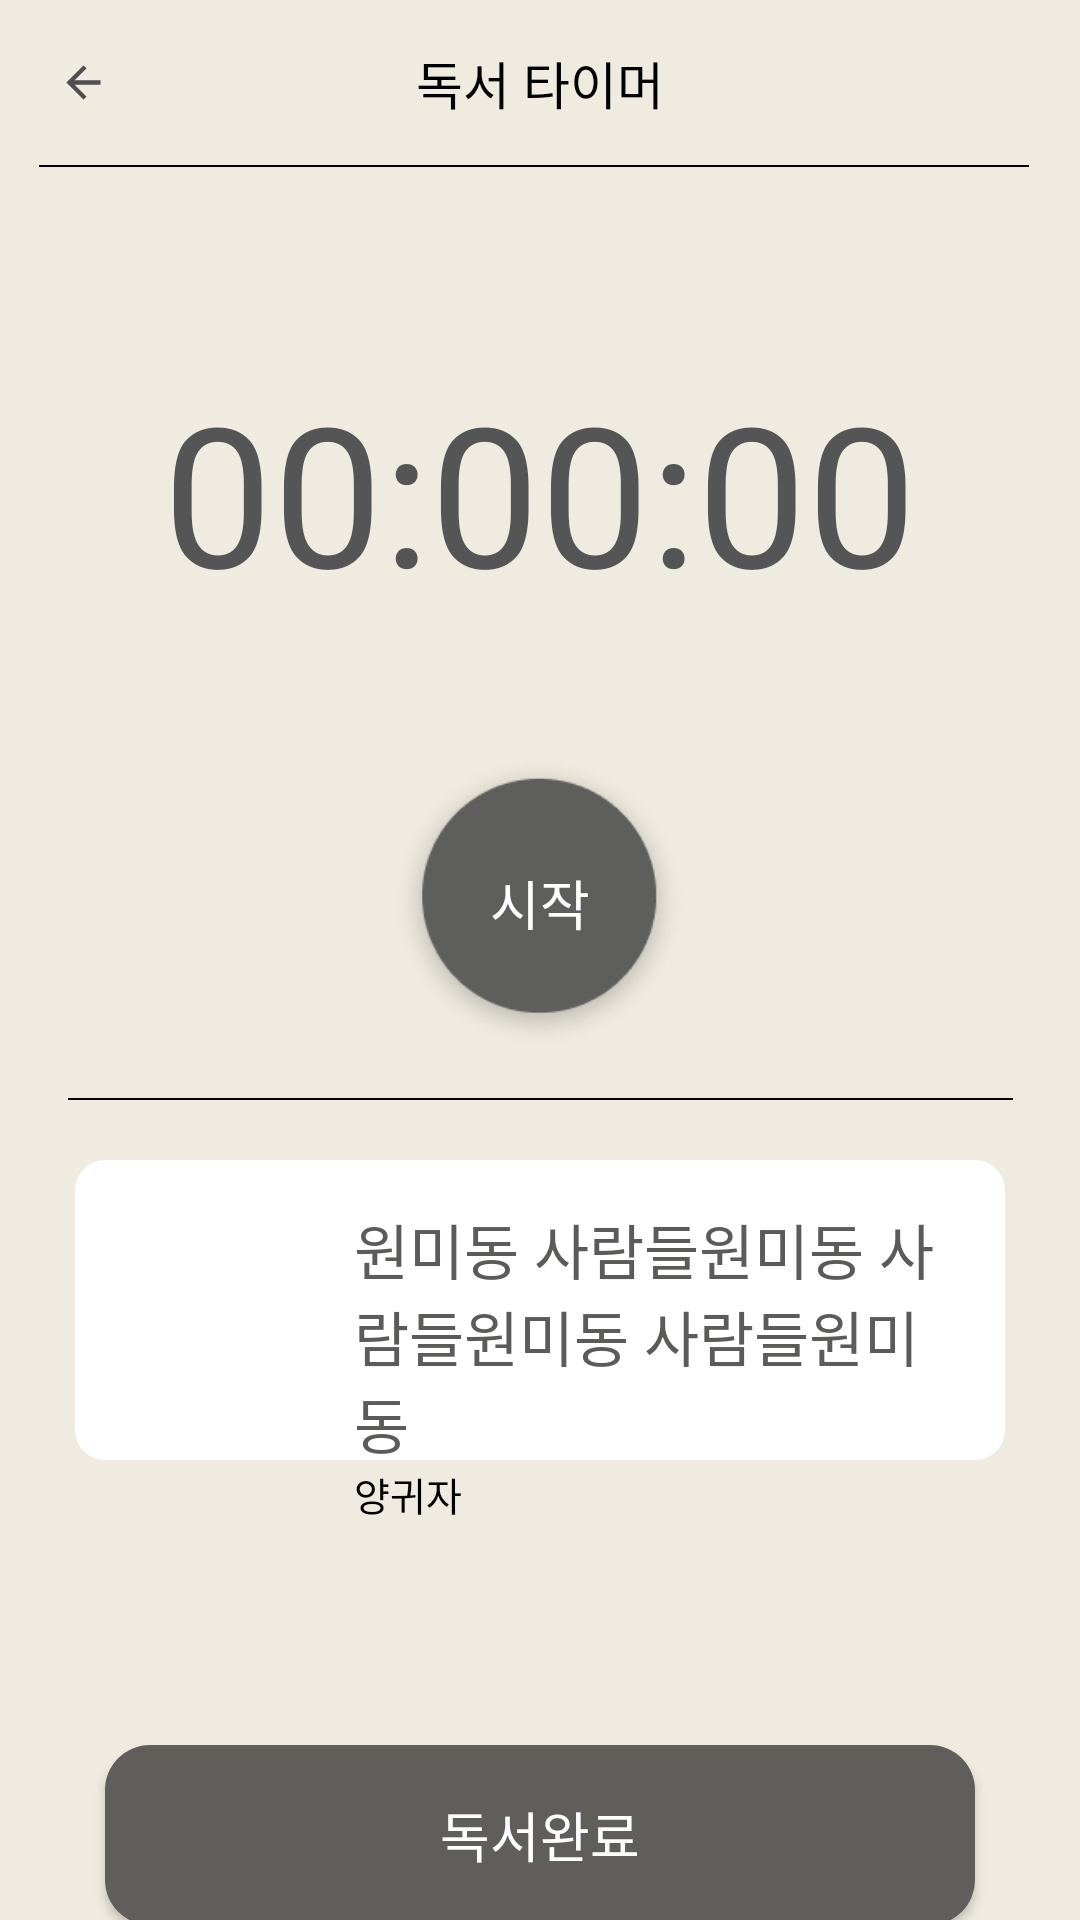

Icon click points for this 1080 x 1920 phone screenshot, format [x,y]:
arrow back: [83,82]
